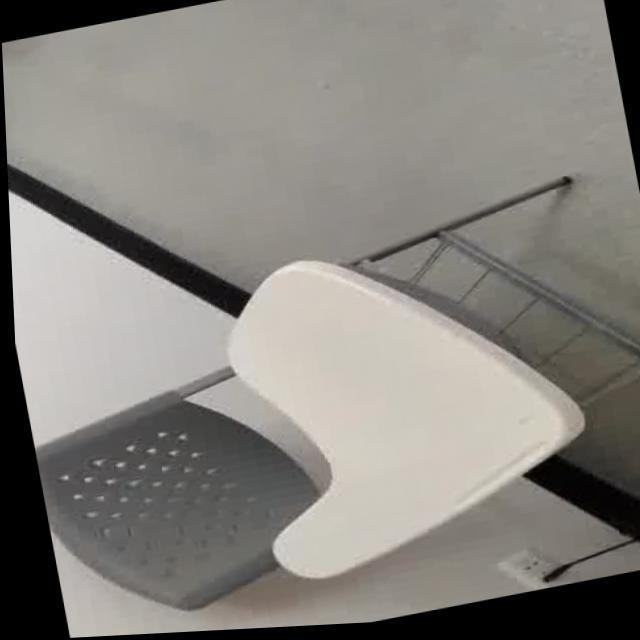chair: (6, 139, 640, 640)
